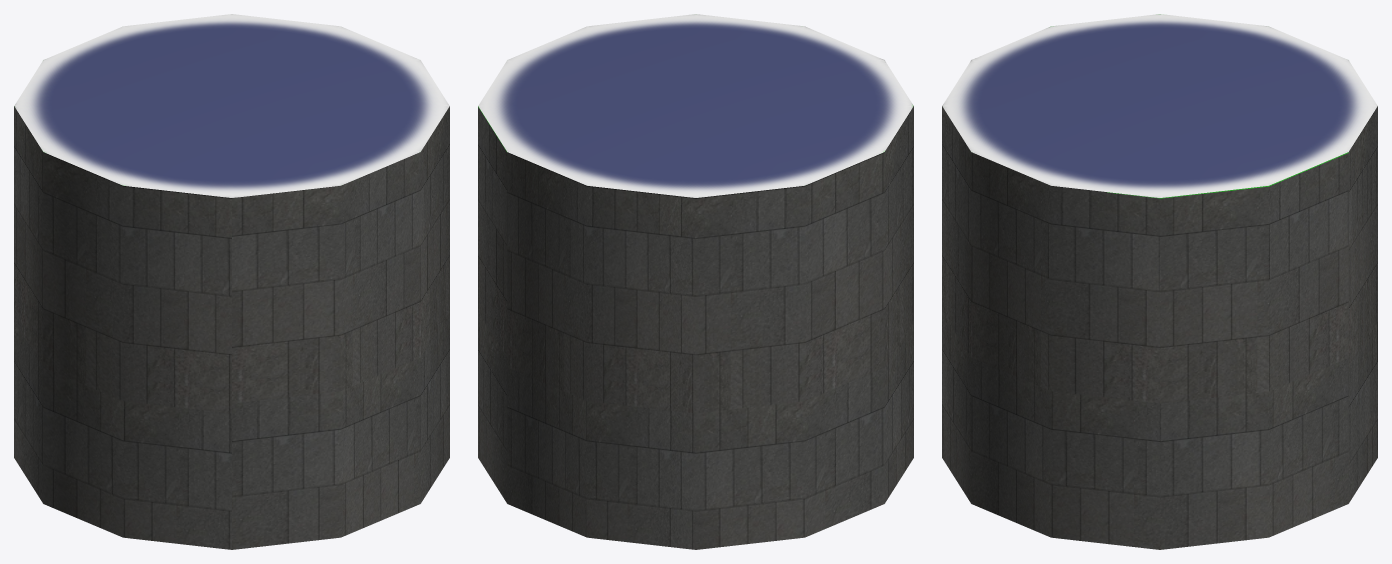
File: Wall.FBX
3 renders of one model, left to right at view 1: azimuth 30°, elevation 25°; view 2: azimuth 150°, elevation 25°; view 3: azimuth 270°, elevation 25°, orthographic.
Parts seen in each view (by area): view 1: OilTank001; view 2: OilTank001; view 3: OilTank001.
Part boxes in pixels (x1,y1,x2,y2): OilTank001: (14, 14, 449, 549); OilTank001: (478, 14, 913, 549); OilTank001: (942, 14, 1377, 549).
Size of the model in its own units: 8575 by 7748 by 8575.
Materials: 1 (1 with a texture image).
